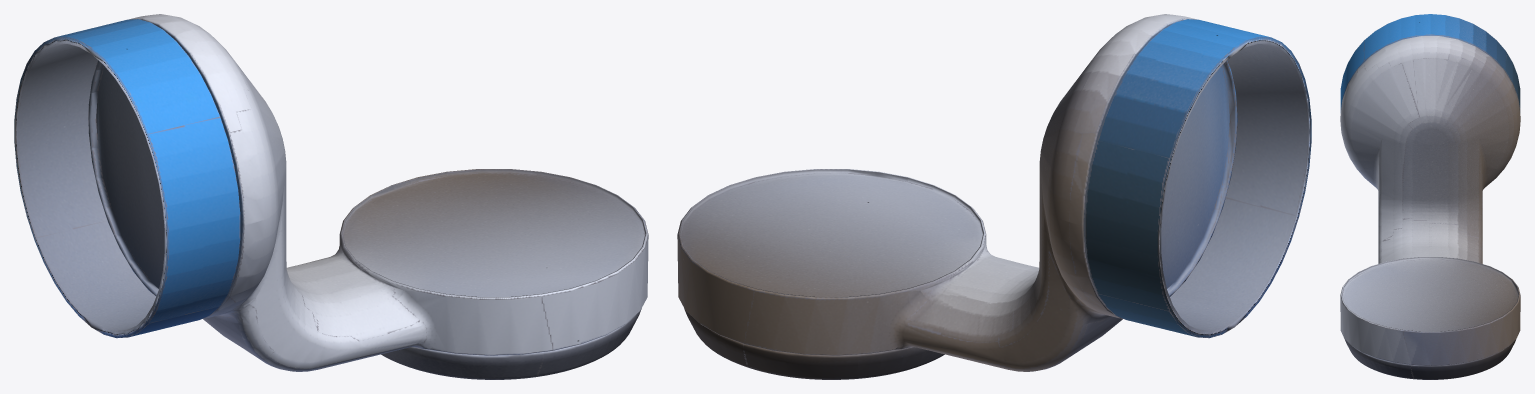
The model's file is forearm_roll_link.obj.
The picture shows the model from 3 angles, left to right: view 1: azimuth 30°, elevation 25°; view 2: azimuth 150°, elevation 25°; view 3: azimuth 270°, elevation 25°; orthographic projection. The views are drawn at different scales.
Bounding box in the file's own units: 0.2085 × 0.139 × 0.104.
Materials: 1 (1 with a texture image).
